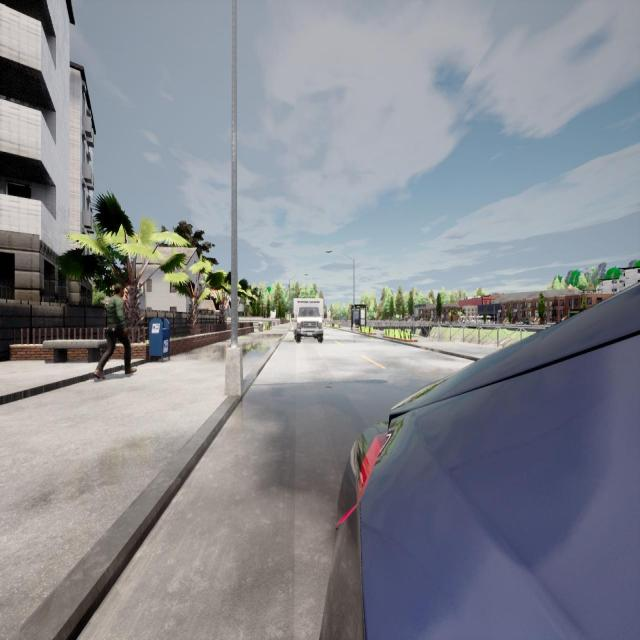Pedestrian: (94, 283, 136, 379)
Vehicle: (320, 284, 640, 638), (292, 297, 324, 343)
